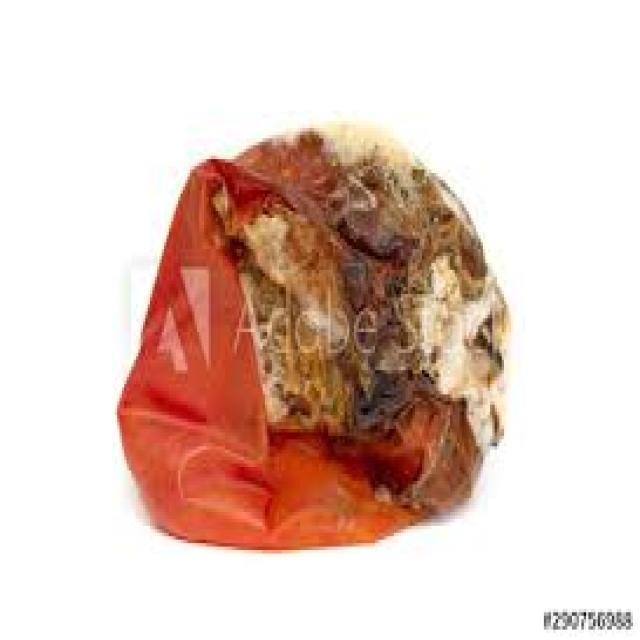food_waste: (117, 128, 509, 547)
